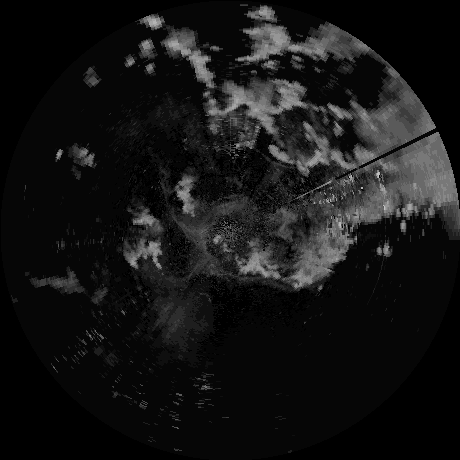frontgust: (211, 265, 284, 288), (162, 181, 182, 225), (262, 154, 296, 169)
